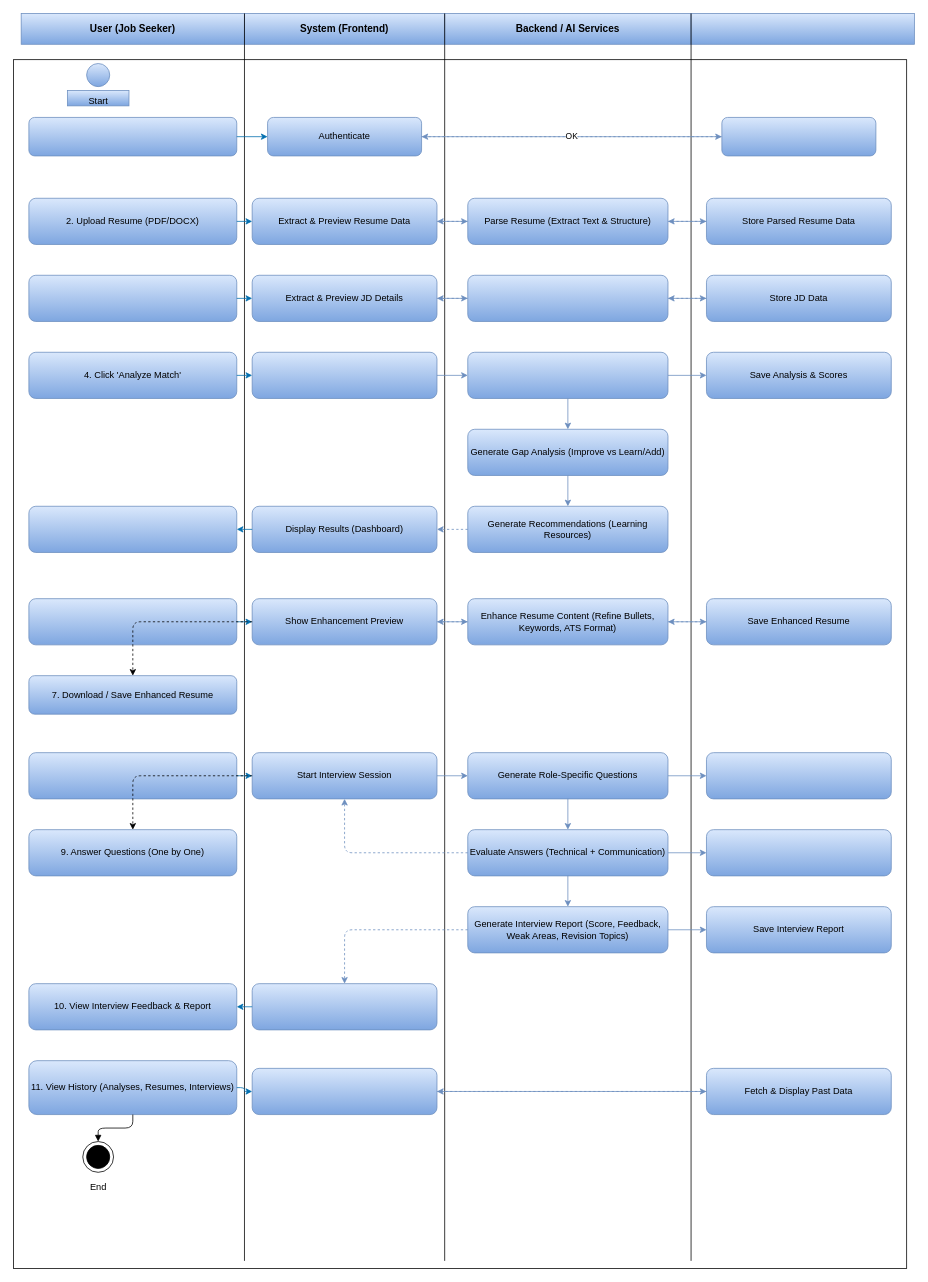
The diagram is 928 pixels wide and 1282 high, and some of its shapes have lost their labels. The box of each missing label's shape, as (x1, y1, x2, y2) in pixels:
1. Sign Up / Login: (28, 117, 237, 156)
3. Paste / Input Job Description: (28, 275, 237, 321)
5. View Match Score, Breakdown & Gap Analysis: (28, 506, 237, 552)
6. Generate Enhanced Resume: (28, 598, 237, 645)
8. Start Mock Interview: (28, 752, 237, 799)
Database: (690, 13, 914, 44)
Display Report & Recommendations: (251, 983, 437, 1030)
Match & Score (Keyword + Semantic Similarity): (467, 352, 668, 398)
Parse JD (Extract Skills, Role, Reqs, Keywords): (467, 275, 668, 321)
Save Answers & Evaluation: (706, 829, 891, 876)
Save Interview Session: (706, 752, 891, 799)
Show History Dashboard: (251, 1068, 437, 1115)
Show Loading & Progress: (251, 352, 437, 398)
Verify User: (721, 117, 876, 156)
